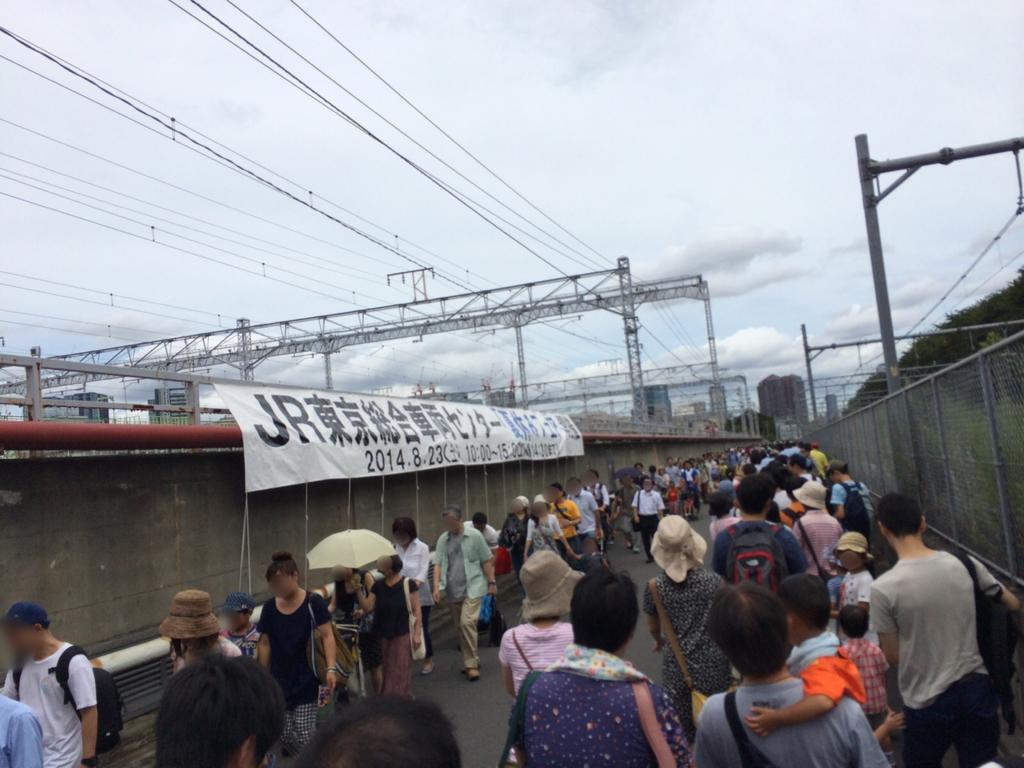Hat: (522, 546, 586, 618), (649, 516, 707, 584), (156, 592, 220, 636), (0, 600, 51, 630), (791, 479, 826, 510), (836, 532, 872, 560), (216, 590, 252, 608), (530, 492, 550, 508)
